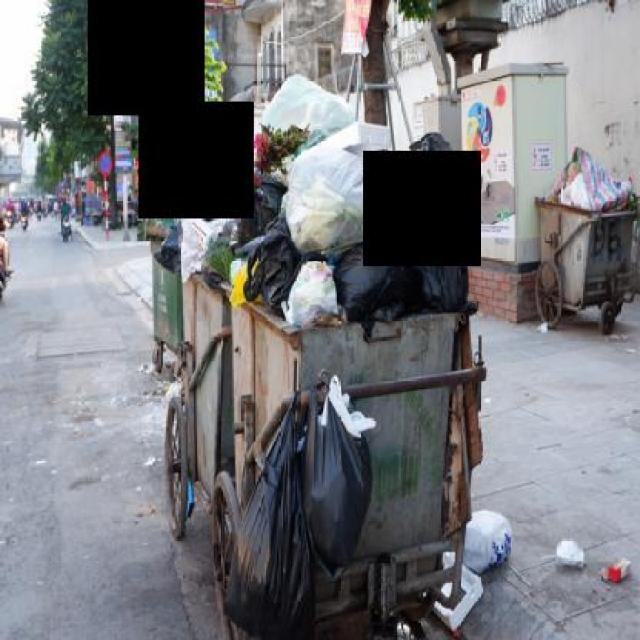plastic bag: (209, 112, 482, 452), (288, 363, 377, 592), (280, 128, 409, 262), (255, 66, 352, 149), (543, 145, 632, 212), (458, 506, 514, 574), (183, 154, 240, 212), (552, 529, 586, 574)
